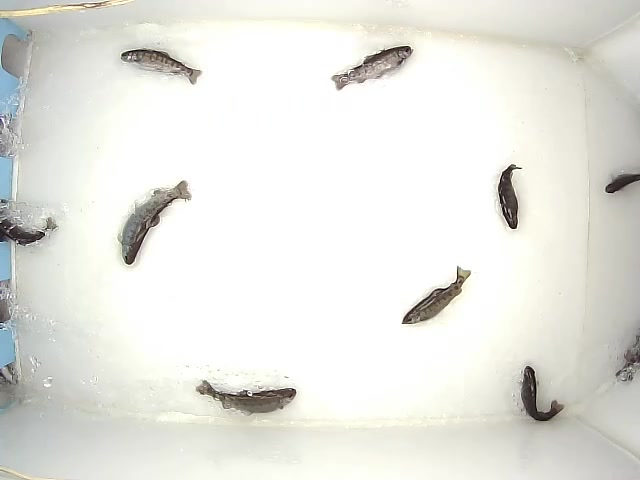fish: (116, 179, 192, 266), (400, 264, 472, 326), (193, 378, 297, 419), (330, 44, 414, 92), (118, 48, 203, 86), (520, 364, 566, 422), (497, 163, 523, 230)
